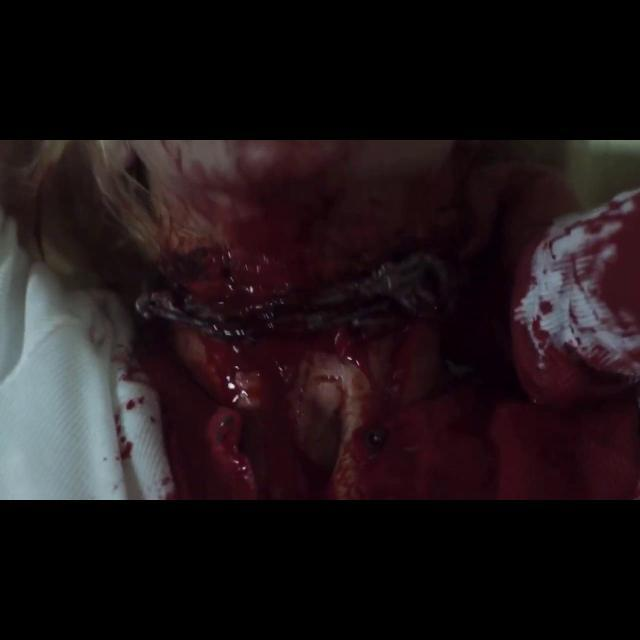blood: (112, 140, 640, 500)
